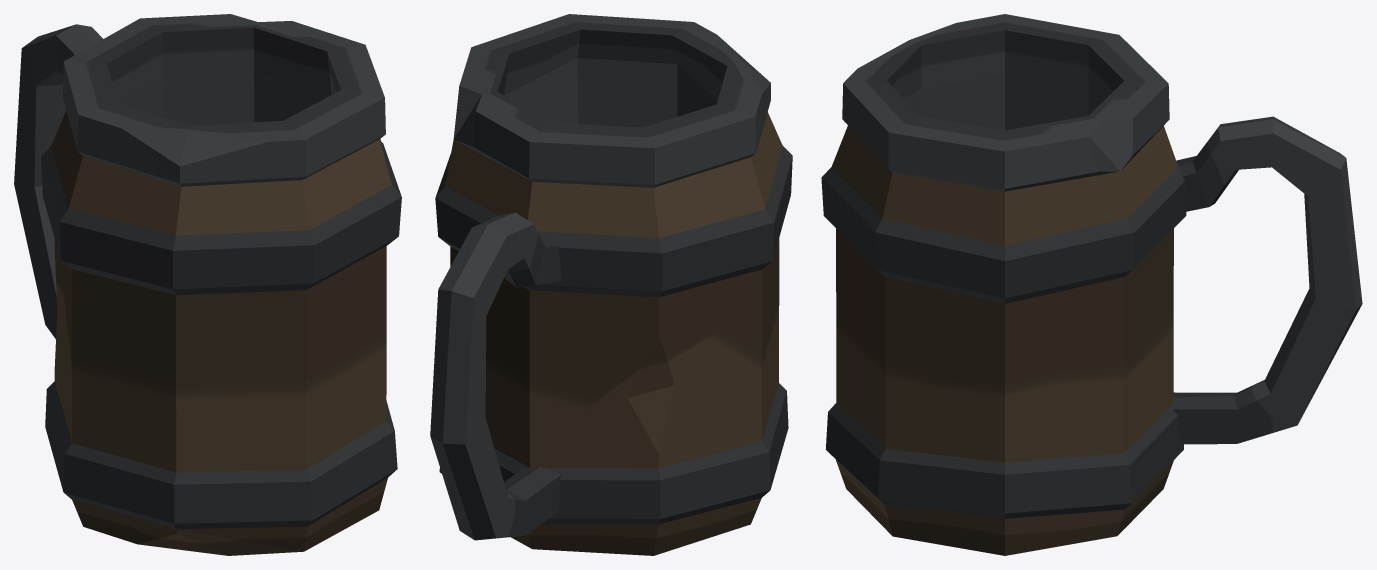
The model's file is SM_Prop_Cup_01.fbx.
The picture shows the model from 3 angles, left to right: view 1: azimuth 30°, elevation 25°; view 2: azimuth 150°, elevation 25°; view 3: azimuth 270°, elevation 25°; orthographic projection.
Parts seen in each view (by area): view 1: SM_Prop_Cup_01; view 2: SM_Prop_Cup_01; view 3: SM_Prop_Cup_01.
Boxes of the visible parts, bbox=[...] form: SM_Prop_Cup_01: bbox=[14, 14, 401, 555]; SM_Prop_Cup_01: bbox=[430, 14, 792, 555]; SM_Prop_Cup_01: bbox=[821, 14, 1362, 555].
Size of the model in its own units: 18.77 by 23.04 by 27.67.
